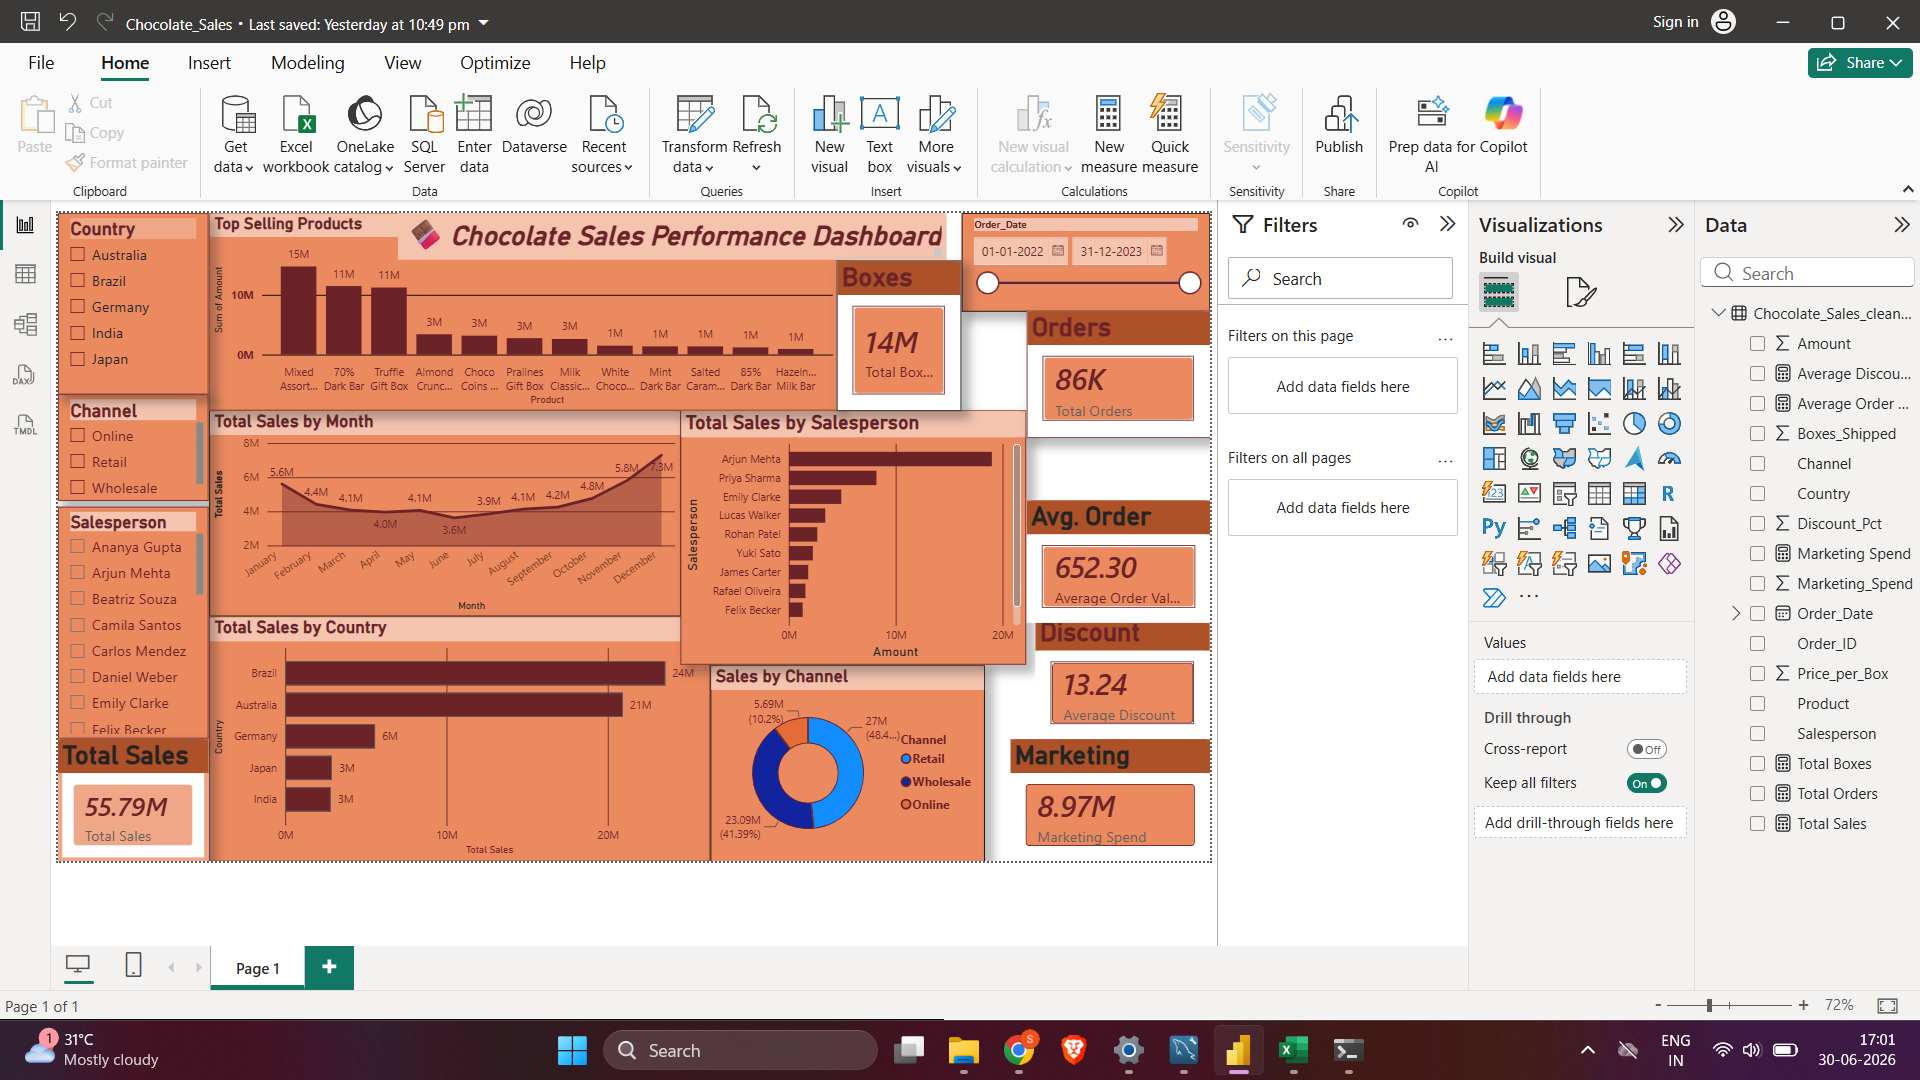

The page's visual inventory and layout, read from the dashboard file:
{"tool":"powerbi","page":{"name":"Page 1","canvas":[1280,720],"ordinal":0},"visuals":[{"type":"lineChart","fields":{"Category":["Chocolate_Sales_cleaned.Order_Date.Variation.Date Hierarchy.Month"],"Y":["Chocolate_Sales_cleaned.Total Sales"]},"box":[0,505,819.2,215.4],"z":1},{"type":"clusteredBarChart","fields":{"Y":["Chocolate_Sales_cleaned.Total Sales"],"Category":["Chocolate_Sales_cleaned.Country"]},"box":[175.6,247,705.3,310.1],"z":2},{"type":"donutChart","title":"Sales by Channel","fields":{"Category":["Chocolate_Sales_cleaned.Channel"],"Y":["Sum(Chocolate_Sales_cleaned.Amount)"]},"box":[975.6,366.4,304.6,218.2],"z":3},{"type":"clusteredBarChart","title":"Total Sales by Salesperson","fields":{"Category":["Chocolate_Sales_cleaned.Salesperson"],"Y":["Sum(Chocolate_Sales_cleaned.Amount)"]},"box":[865.9,0,414.4,333.4],"z":4},{"type":"clusteredColumnChart","title":"Top Selling Products","fields":{"Category":["Chocolate_Sales_cleaned.Product"],"Y":["Sum(Chocolate_Sales_cleaned.Amount)"]},"box":[138.6,0,727.3,219.6],"z":5},{"type":"slicer","fields":{"Values":["Chocolate_Sales_cleaned.Country"]},"box":[0,0,138.6,177],"z":6},{"type":"slicer","fields":{"Values":["Chocolate_Sales_cleaned.Product"]},"box":[0,109.8,138.6,137.2],"z":7},{"type":"slicer","fields":{"Values":["Chocolate_Sales_cleaned.Channel"]},"box":[0,167.4,175.6,124.9],"z":8},{"type":"slicer","fields":{"Values":["Chocolate_Sales_cleaned.Salesperson"]},"box":[0,292.3,175.6,199],"z":9},{"type":"slicer","fields":{"Values":["Chocolate_Sales_cleaned.Order_Date"]},"box":[963.3,584.6,317,135.8],"z":10},{"type":"cardVisual","title":"Total Sales","fields":{"Data":["Chocolate_Sales_cleaned.Total Sales"]},"box":[0,584.6,167.4,135.8],"z":11},{"type":"textbox","title":"🍫 Chocolate Sales Performance Dashboard","box":[377.4,0,598.3,89.2],"z":12},{"type":"cardVisual","title":"Orders","fields":{"Data":["Chocolate_Sales_cleaned.Total Orders"]},"box":[193.5,584.6,153.7,135.8],"z":13},{"type":"cardVisual","title":"Boxes","fields":{"Data":["Chocolate_Sales_cleaned.Total Boxes"]},"box":[377.4,584.6,150.9,135.8],"z":14},{"type":"cardVisual","title":"Discount","fields":{"Data":["Chocolate_Sales_cleaned.Average Discount"]},"box":[793.1,584.6,193.5,135.8],"z":15},{"type":"cardVisual","title":"Avg. Order","fields":{"Data":["Chocolate_Sales_cleaned.Average Order Value"]},"box":[557.1,584.6,204.5,135.8],"z":16},{"type":"cardVisual","title":"Marketing","fields":{"Data":["Chocolate_Sales_cleaned.Marketing Spend"]},"box":[1058,584.6,222.3,135.8],"z":17}]}

Visuals, with their boxes on the page's 1280x720 design canvas (x1, y1, x2, y2). These are canvas units, not pixel positions in the 1920x1080 screenshot, which may show the page scaled, cropped or inside an application window:
lineChart - Chocolate_Sales_cleaned.Order_Date.Variation.Date Hierarchy.Month x Chocolate_Sales_cleaned.Total Sales: <box>0,505,819,720</box>
clusteredBarChart - Chocolate_Sales_cleaned.Total Sales x Chocolate_Sales_cleaned.Country: <box>176,247,881,557</box>
"Sales by Channel" donutChart: <box>976,366,1280,585</box>
"Total Sales by Salesperson" clusteredBarChart: <box>866,0,1280,333</box>
"Top Selling Products" clusteredColumnChart: <box>139,0,866,220</box>
slicer - Chocolate_Sales_cleaned.Country: <box>0,0,139,177</box>
slicer - Chocolate_Sales_cleaned.Product: <box>0,110,139,247</box>
slicer - Chocolate_Sales_cleaned.Channel: <box>0,167,176,292</box>
slicer - Chocolate_Sales_cleaned.Salesperson: <box>0,292,176,491</box>
slicer - Chocolate_Sales_cleaned.Order_Date: <box>963,585,1280,720</box>
"Total Sales" cardVisual: <box>0,585,167,720</box>
"🍫 Chocolate Sales Performance Dashboard" textbox: <box>377,0,976,89</box>
"Orders" cardVisual: <box>194,585,347,720</box>
"Boxes" cardVisual: <box>377,585,528,720</box>
"Discount" cardVisual: <box>793,585,987,720</box>
"Avg. Order" cardVisual: <box>557,585,762,720</box>
"Marketing" cardVisual: <box>1058,585,1280,720</box>
